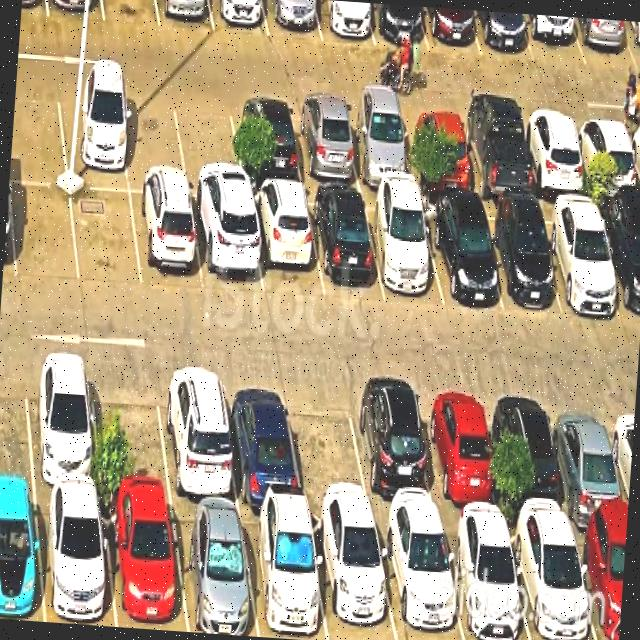empty: (285, 379, 371, 514), (90, 361, 171, 500), (173, 94, 245, 200), (118, 90, 188, 194), (71, 188, 141, 289), (10, 182, 79, 282), (9, 82, 67, 184), (0, 354, 33, 487), (102, 0, 160, 27)
occupied: (347, 382, 439, 518), (169, 502, 258, 636), (416, 384, 501, 523), (240, 507, 327, 640), (101, 497, 187, 631), (309, 511, 396, 640), (157, 366, 238, 504), (221, 372, 303, 506), (35, 491, 116, 626), (441, 519, 530, 640), (24, 355, 101, 494), (548, 392, 627, 527), (375, 519, 463, 640), (493, 388, 571, 524), (507, 523, 595, 640), (537, 202, 622, 315), (363, 195, 444, 306), (420, 201, 502, 310), (476, 203, 560, 309), (306, 190, 384, 298), (248, 187, 323, 297), (56, 85, 129, 191), (130, 193, 203, 291), (190, 199, 263, 295), (457, 111, 534, 200), (229, 98, 303, 185), (400, 108, 474, 194), (571, 525, 626, 640), (289, 101, 361, 186), (342, 104, 415, 187), (519, 113, 589, 197), (573, 115, 640, 200), (0, 490, 43, 621), (595, 204, 640, 322), (570, 17, 637, 68), (520, 13, 585, 65), (472, 10, 533, 60), (365, 2, 428, 50), (420, 6, 481, 55), (313, 0, 374, 45), (263, 0, 320, 38), (208, 0, 268, 35), (156, 0, 213, 32), (46, 0, 104, 20), (622, 20, 640, 68), (21, 0, 48, 16)
